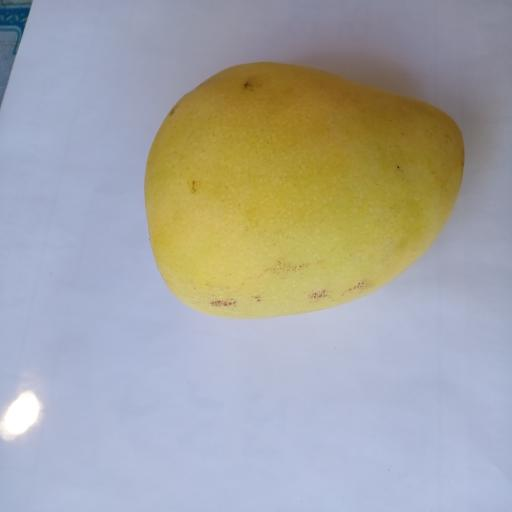mango-ripe: (134, 36, 488, 322)
